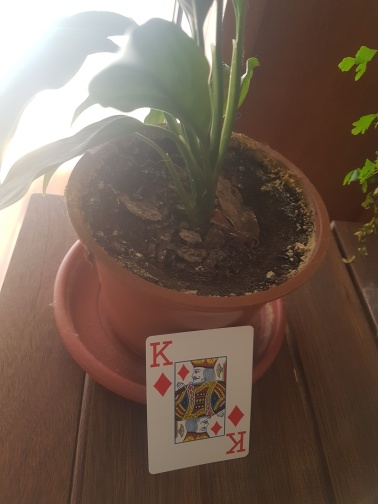king: (146, 325, 254, 475)
